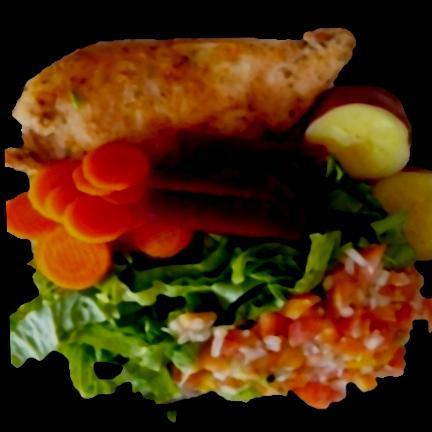beet: (139, 131, 325, 243)
carrot: (6, 144, 193, 289)
chicken: (4, 28, 356, 173)
potato: (302, 86, 432, 261)
salad: (9, 160, 413, 403)
